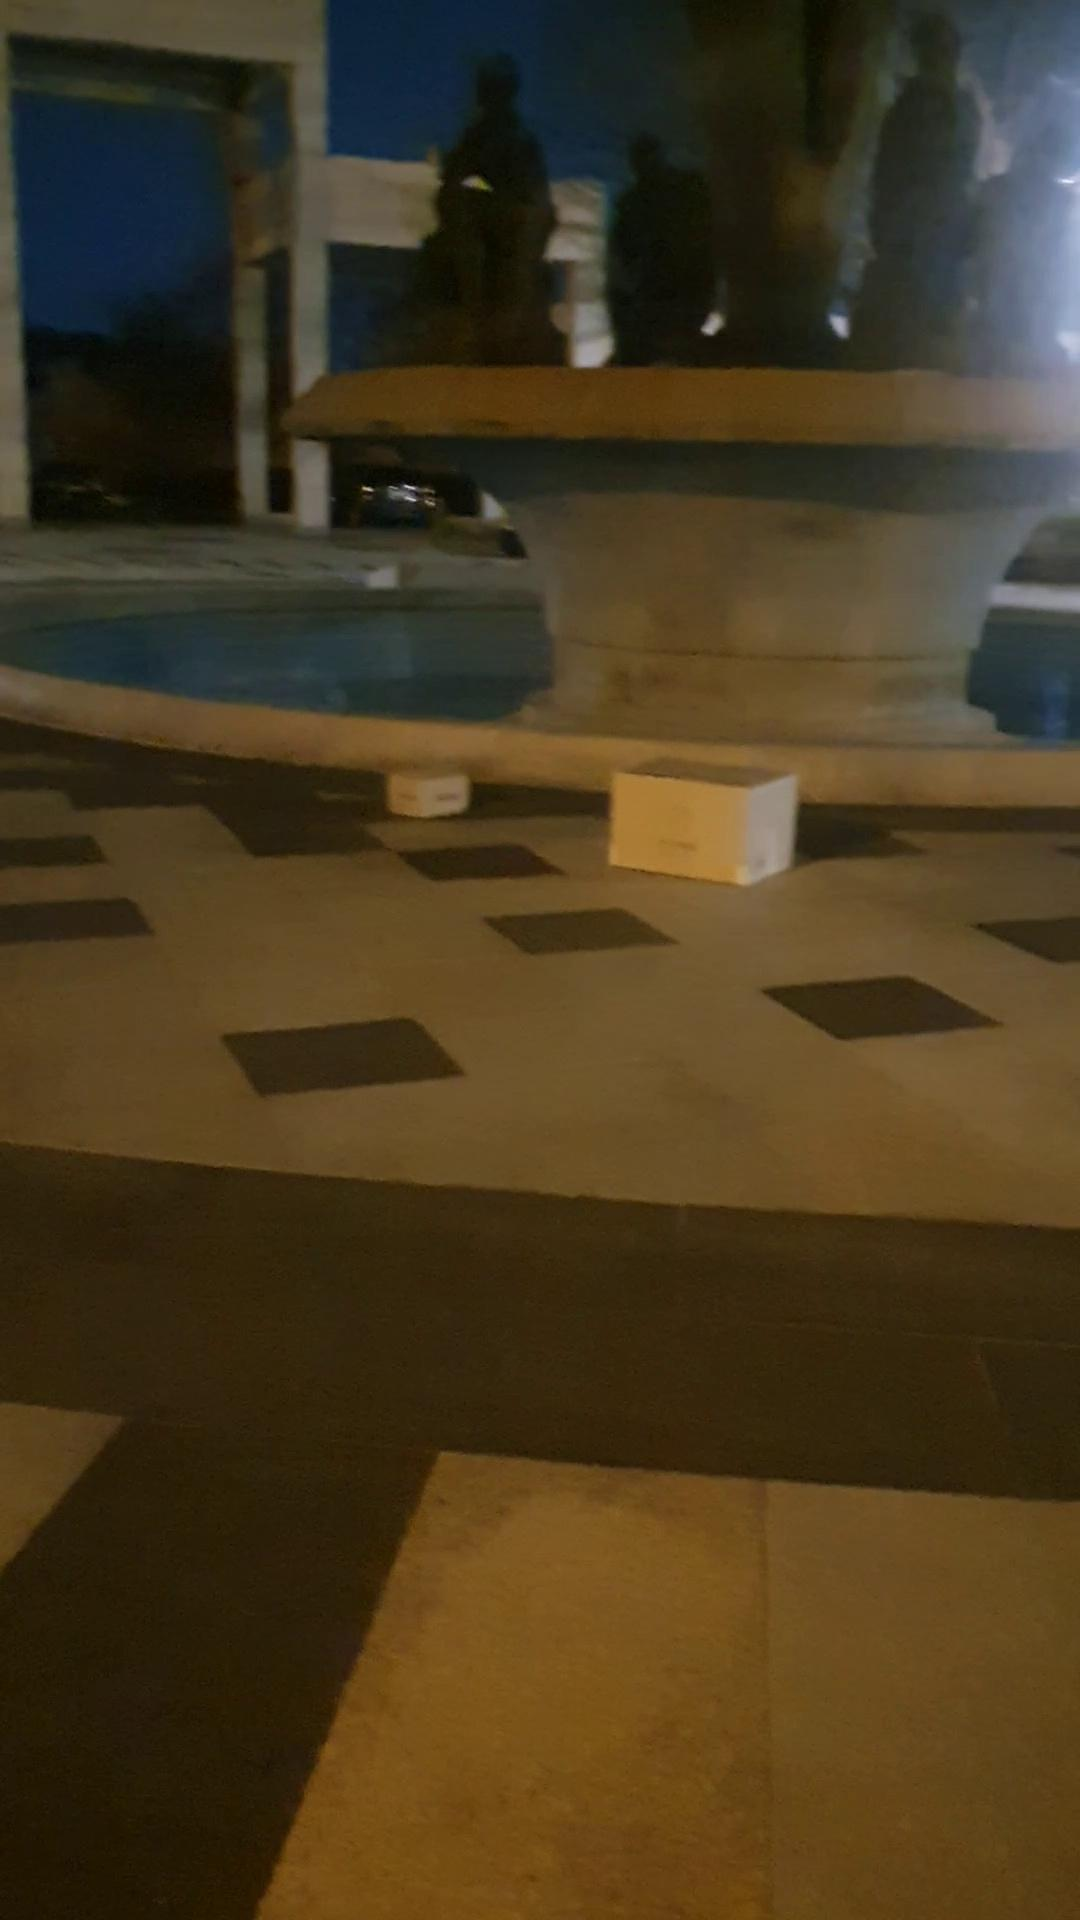Box: (585, 745, 818, 895), (351, 738, 477, 835)
